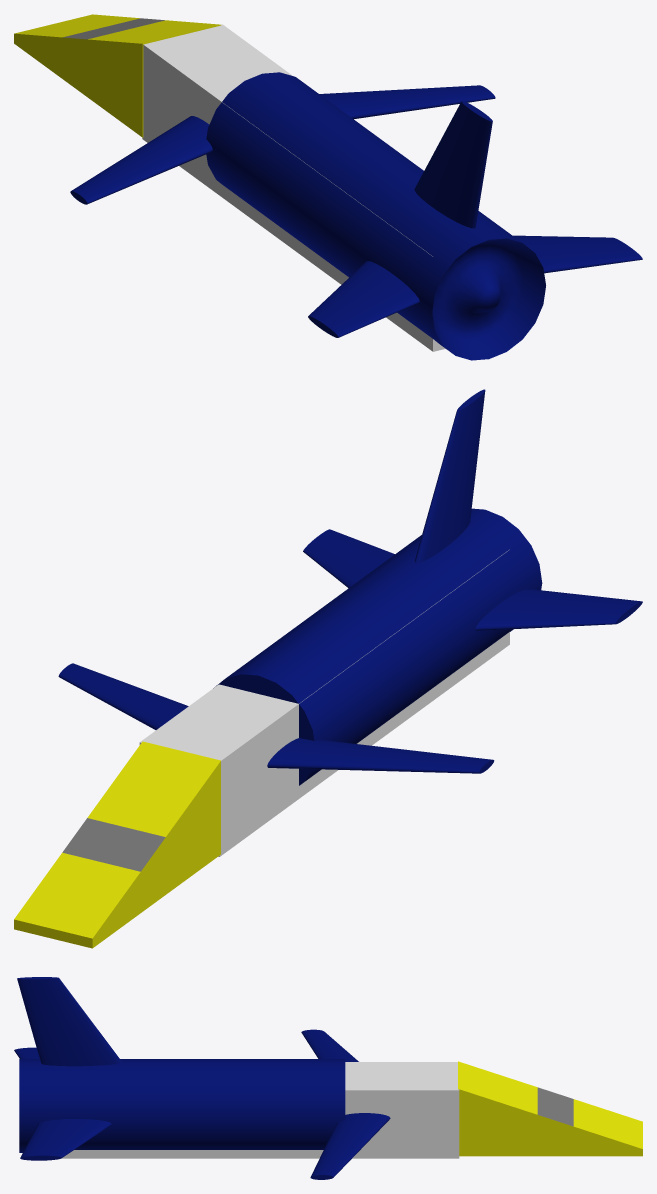
Rendered from SpaceShip.fbx.
3 views of the same model, one above another, from view 1: azimuth 30°, elevation 25°; view 2: azimuth 150°, elevation 25°; view 3: azimuth 270°, elevation 25° (orthographic). The views are drawn at different scales.
Visible parts, largest first — view 1: polySurface1; view 2: polySurface1; view 3: polySurface1.
Part boxes in pixels (box(x1,y1,x2,y2)): polySurface1: box(14, 14, 642, 360); polySurface1: box(14, 389, 642, 948); polySurface1: box(14, 977, 642, 1179).
Size of the model in its own units: 476 by 261 by 869.
